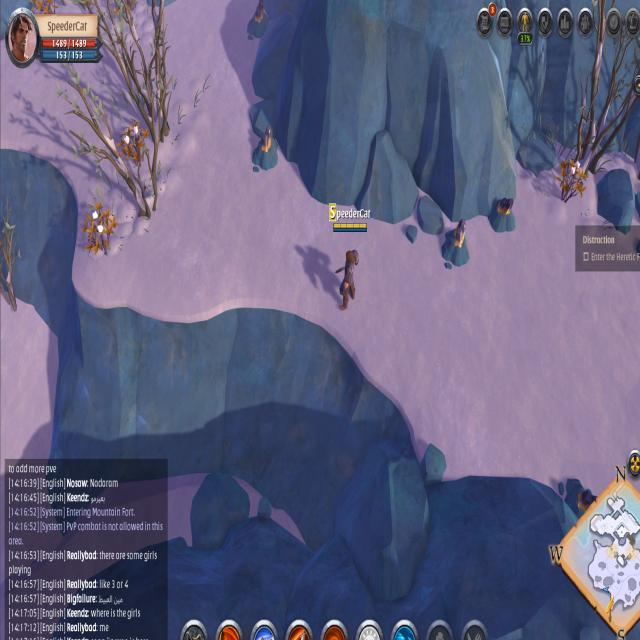copper: (442, 212, 472, 270), (564, 473, 598, 519), (252, 124, 279, 174), (489, 191, 516, 236), (244, 0, 270, 41)
cotton: (80, 197, 118, 261), (116, 118, 149, 170), (557, 155, 588, 207), (31, 0, 59, 21), (112, 0, 136, 19)
